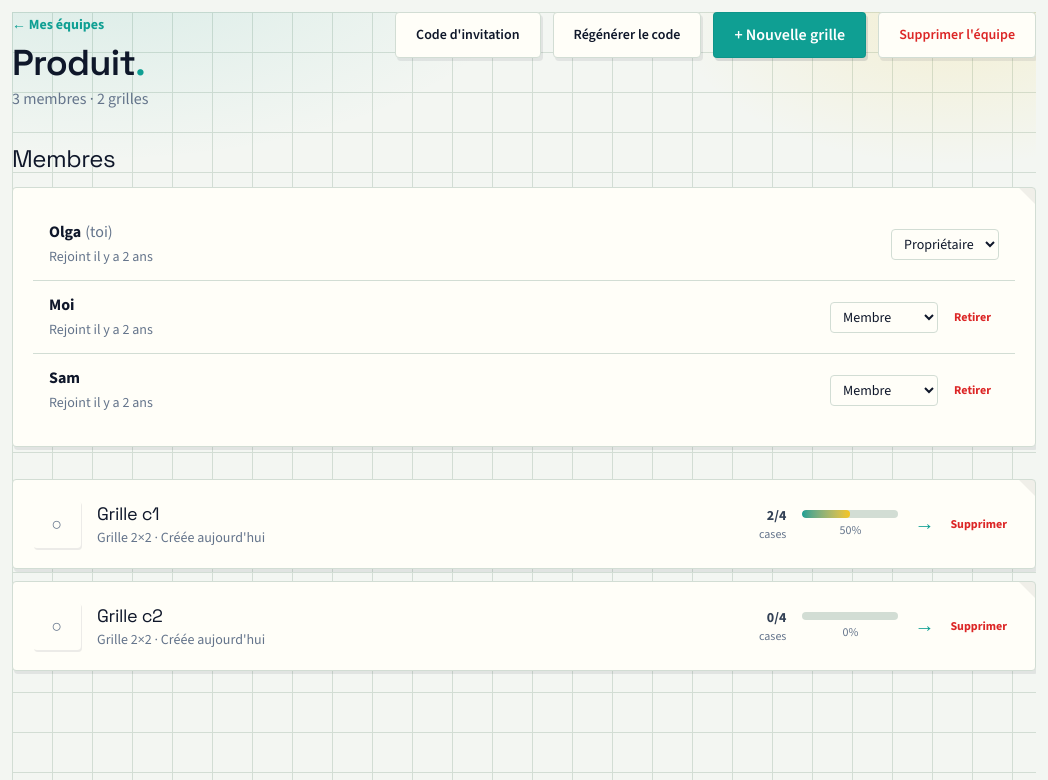
TeamClient — membres › rétablit le rôle et affiche l'erreur si l'API refuse
The image size is (1048, 780).
Select "Admin" in the dropdown named "Rôle de Sam". click: coordinates (884, 390)
box: [830,374,938,406]
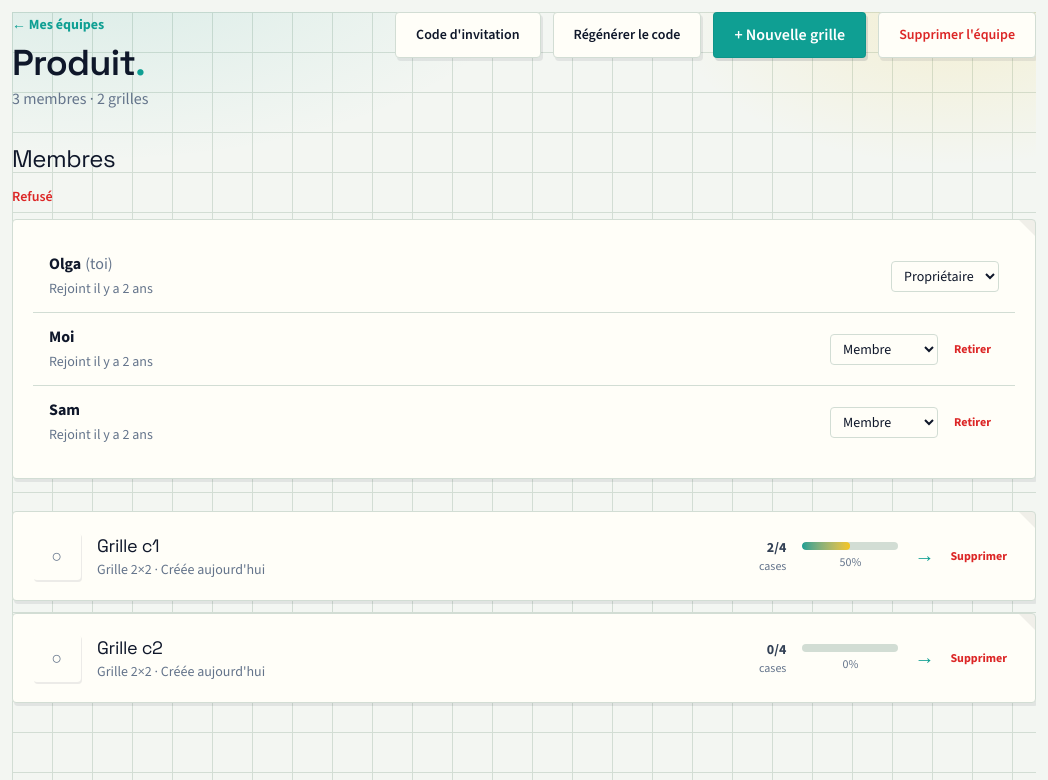
Result: the message reads "Refusé" at [12,187,52,206]
